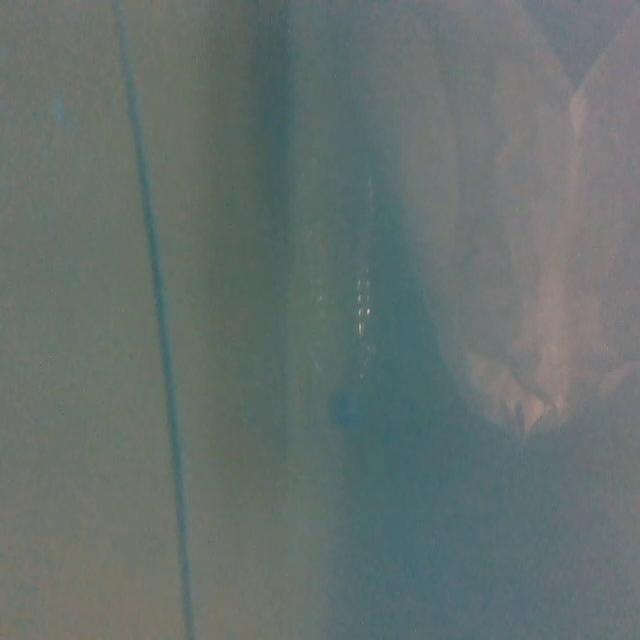plastic bags: (378, 6, 638, 438)
plastic bottle: (284, 137, 377, 432)
